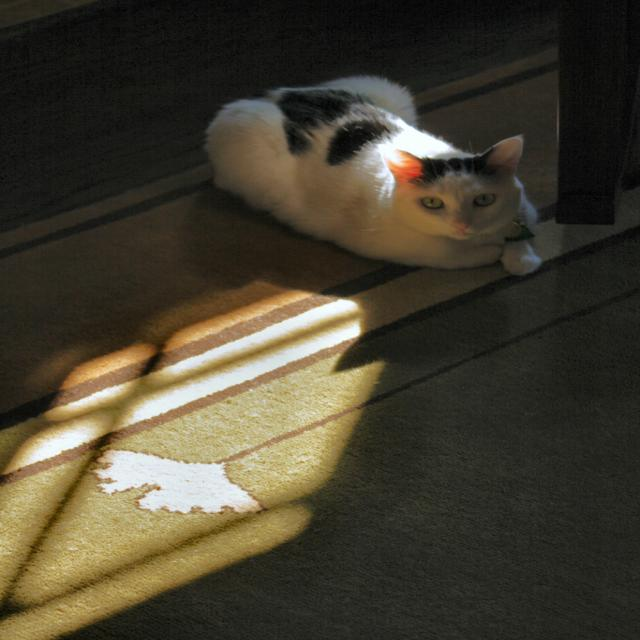left eye: (471, 192, 496, 208)
